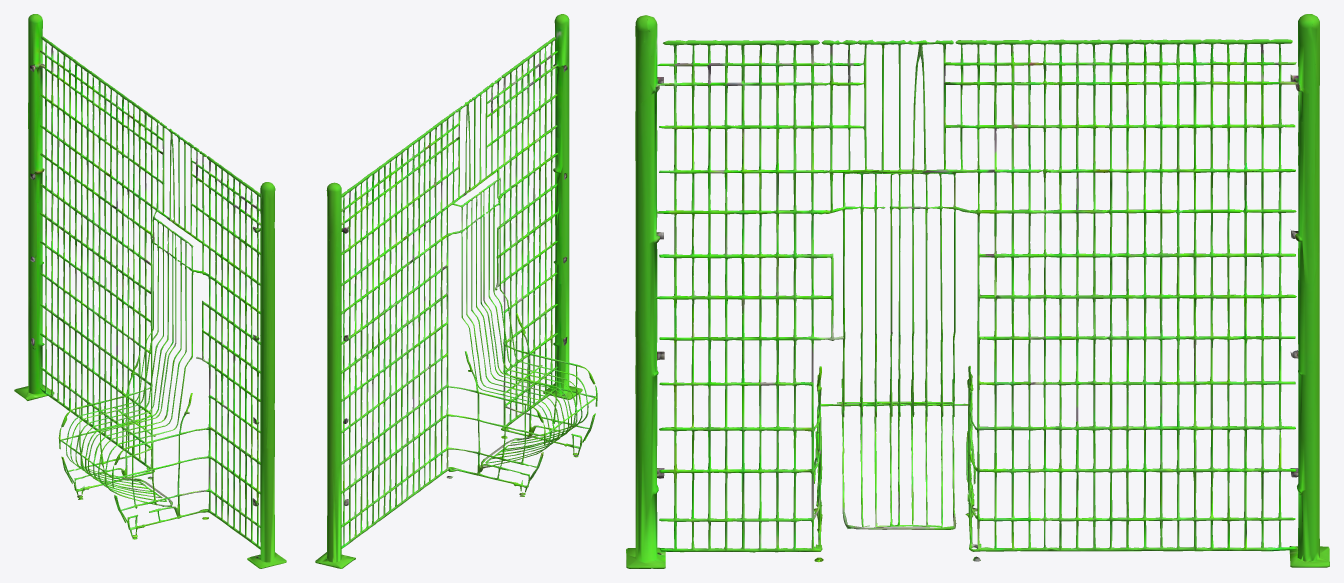
Rendered from 04_1_hl_ipc_chair.glb.
3 renders of one model, left to right at view 1: azimuth 30°, elevation 25°; view 2: azimuth 150°, elevation 25°; view 3: azimuth 270°, elevation 25°, orthographic. The views are drawn at different scales.
Parts seen in each view (by area): view 1: tripo_material_1f7fd4ec-9a7f-4968-8939-8df5e0fa1619; view 2: tripo_material_1f7fd4ec-9a7f-4968-8939-8df5e0fa1619; view 3: tripo_material_1f7fd4ec-9a7f-4968-8939-8df5e0fa1619.
Part boxes in pixels (bbox=[...]): tripo_material_1f7fd4ec-9a7f-4968-8939-8df5e0fa1619: bbox=[14, 14, 286, 568]; tripo_material_1f7fd4ec-9a7f-4968-8939-8df5e0fa1619: bbox=[315, 14, 597, 568]; tripo_material_1f7fd4ec-9a7f-4968-8939-8df5e0fa1619: bbox=[626, 14, 1329, 568].
Size of the model in its own units: 0.5554 by 1.85 by 2.15.
Materials: 1 (1 with a texture image).
